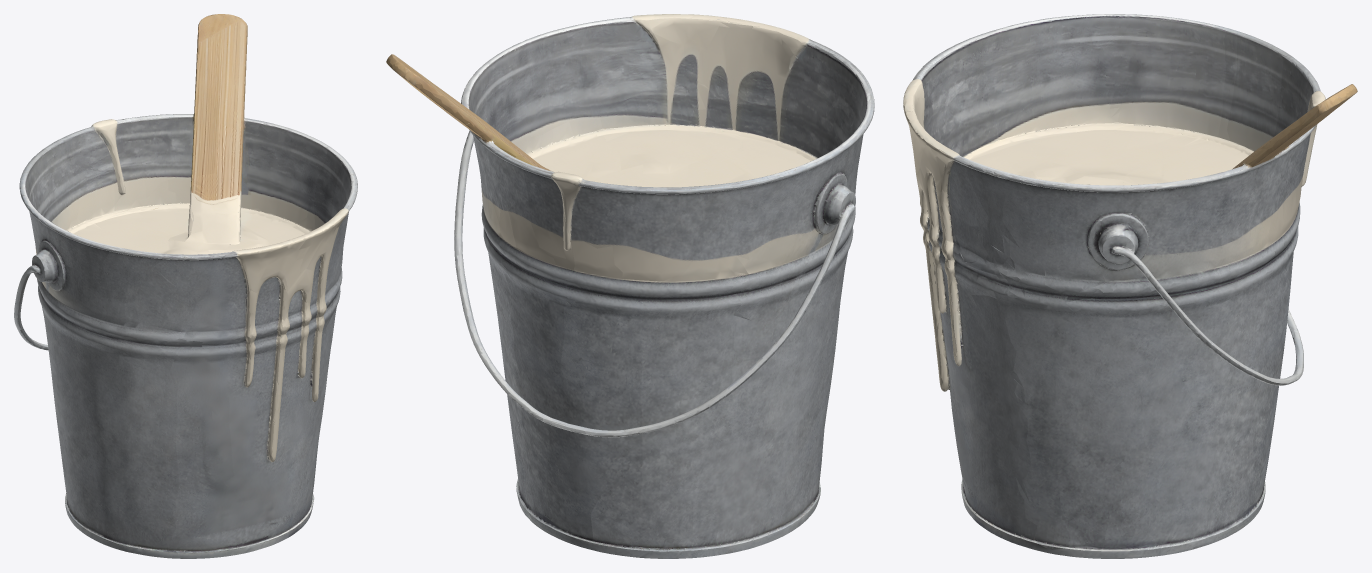
Rendered from paint-bucket.glb.
3 renders of one model, left to right at view 1: azimuth 30°, elevation 25°; view 2: azimuth 150°, elevation 25°; view 3: azimuth 270°, elevation 25°, orthographic. The views are drawn at different scales.
Size of the model in its own units: 1.56 by 1.9 by 1.62.
1 material, 1 textured.
